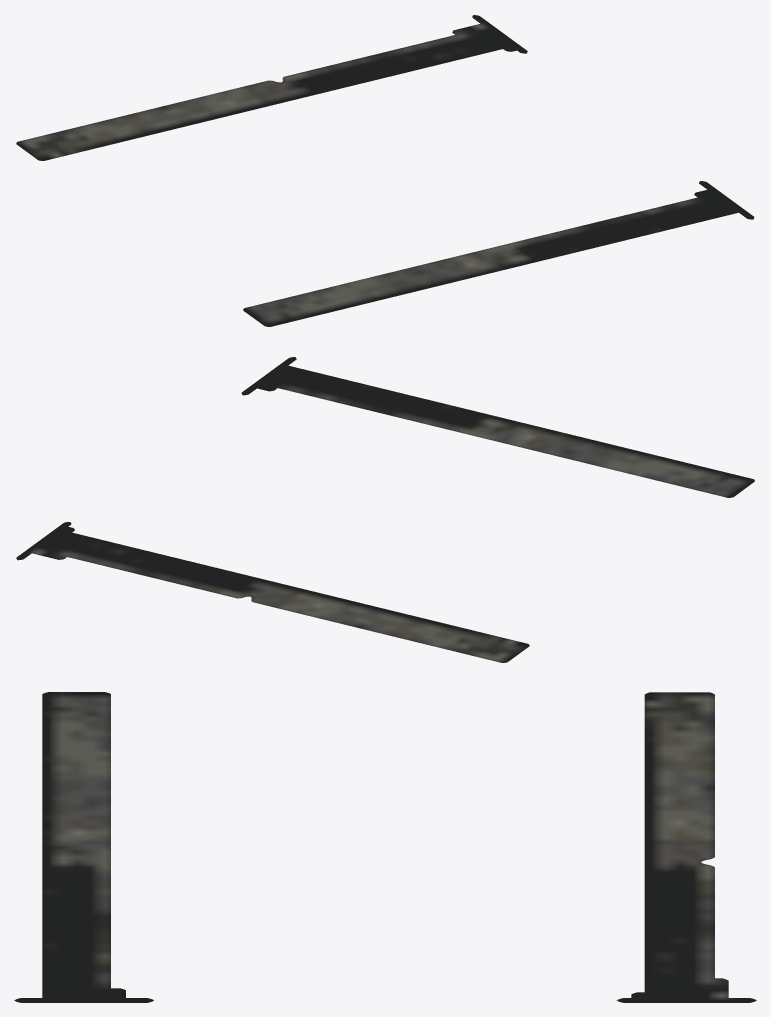
File: SM_EC_Fence_Card_Part_07.fbx
The picture shows the model from 3 angles, top to bottom: view 1: azimuth 30°, elevation 25°; view 2: azimuth 150°, elevation 25°; view 3: azimuth 270°, elevation 25°; orthographic projection. The views are drawn at different scales.
Visible parts, largest first — view 1: SM_EC_Fence_Card_Part_07; view 2: SM_EC_Fence_Card_Part_07; view 3: SM_EC_Fence_Card_Part_07.
Part boxes in pixels (<box>): SM_EC_Fence_Card_Part_07: <box>16,15,754,326</box>; SM_EC_Fence_Card_Part_07: <box>16,357,754,662</box>; SM_EC_Fence_Card_Part_07: <box>14,692,756,1002</box>.
Bounding box in the file's own units: 0.9832 × 0.9929 × 0.
